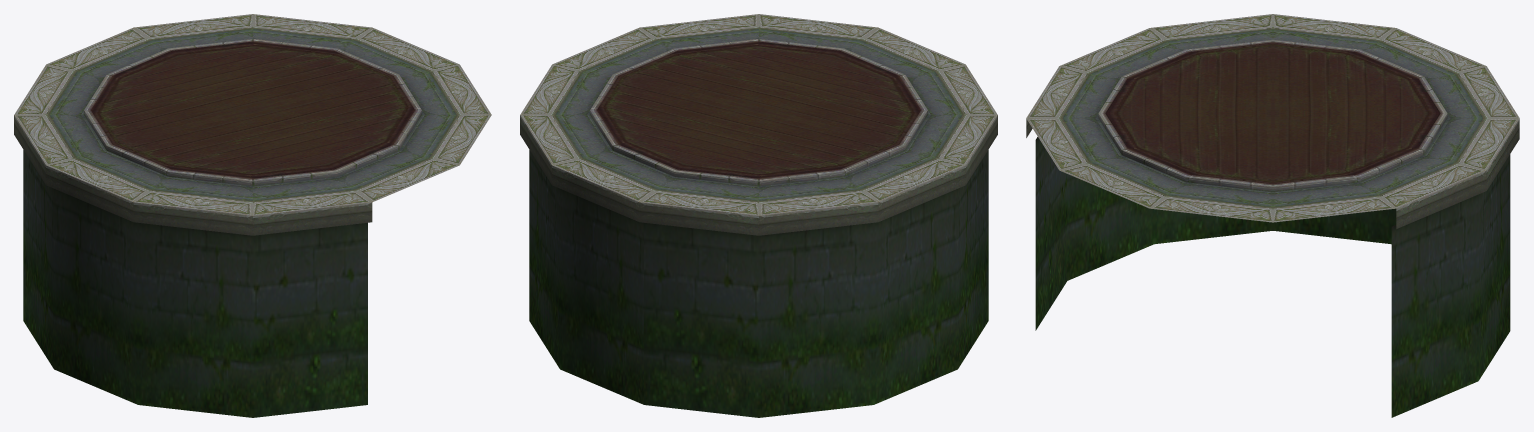
File: zc_suzhou_taizi01.FBX
3 views of the same model, side by side, from view 1: azimuth 30°, elevation 25°; view 2: azimuth 150°, elevation 25°; view 3: azimuth 270°, elevation 25° (orthographic). The views are drawn at different scales.
Visible parts, largest first — view 1: zc_suzhou_taizi01; view 2: zc_suzhou_taizi01; view 3: zc_suzhou_taizi01.
Part boxes in pixels (x1,y1,x2,y2): zc_suzhou_taizi01: [14, 14, 491, 417]; zc_suzhou_taizi01: [520, 14, 997, 417]; zc_suzhou_taizi01: [1026, 14, 1519, 417].
Bounding box in the file's own units: 1401 × 682 × 1401.
Materials: 1 (1 with a texture image).
